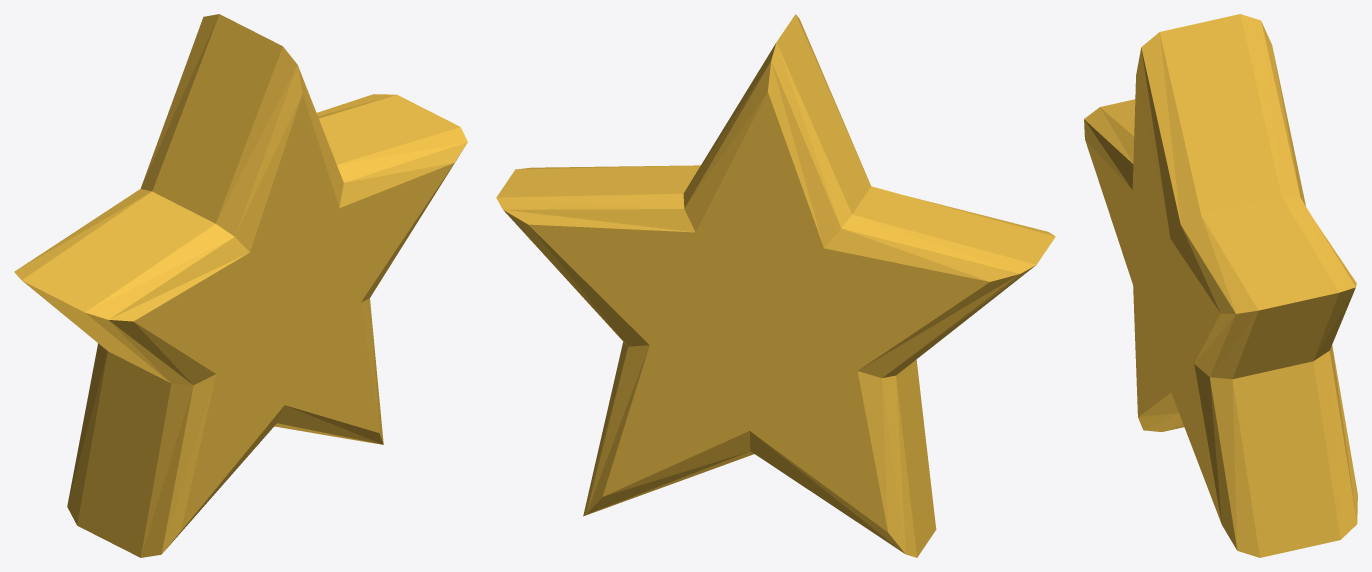
The model's file is Star3D.glb.
3 renders of one model, left to right at view 1: azimuth 30°, elevation 25°; view 2: azimuth 150°, elevation 25°; view 3: azimuth 270°, elevation 25°, orthographic. The views are drawn at different scales.
Visible parts, largest first — view 1: Body; view 2: Body; view 3: Body.
Boxes of the visible parts, x1,y1,x2,y2 form: Body: (14, 14, 467, 557); Body: (496, 14, 1055, 557); Body: (1084, 14, 1357, 557).
Size of the model in its own units: 2.23 by 2.16 by 1.13.
1 material, 1 textured.
